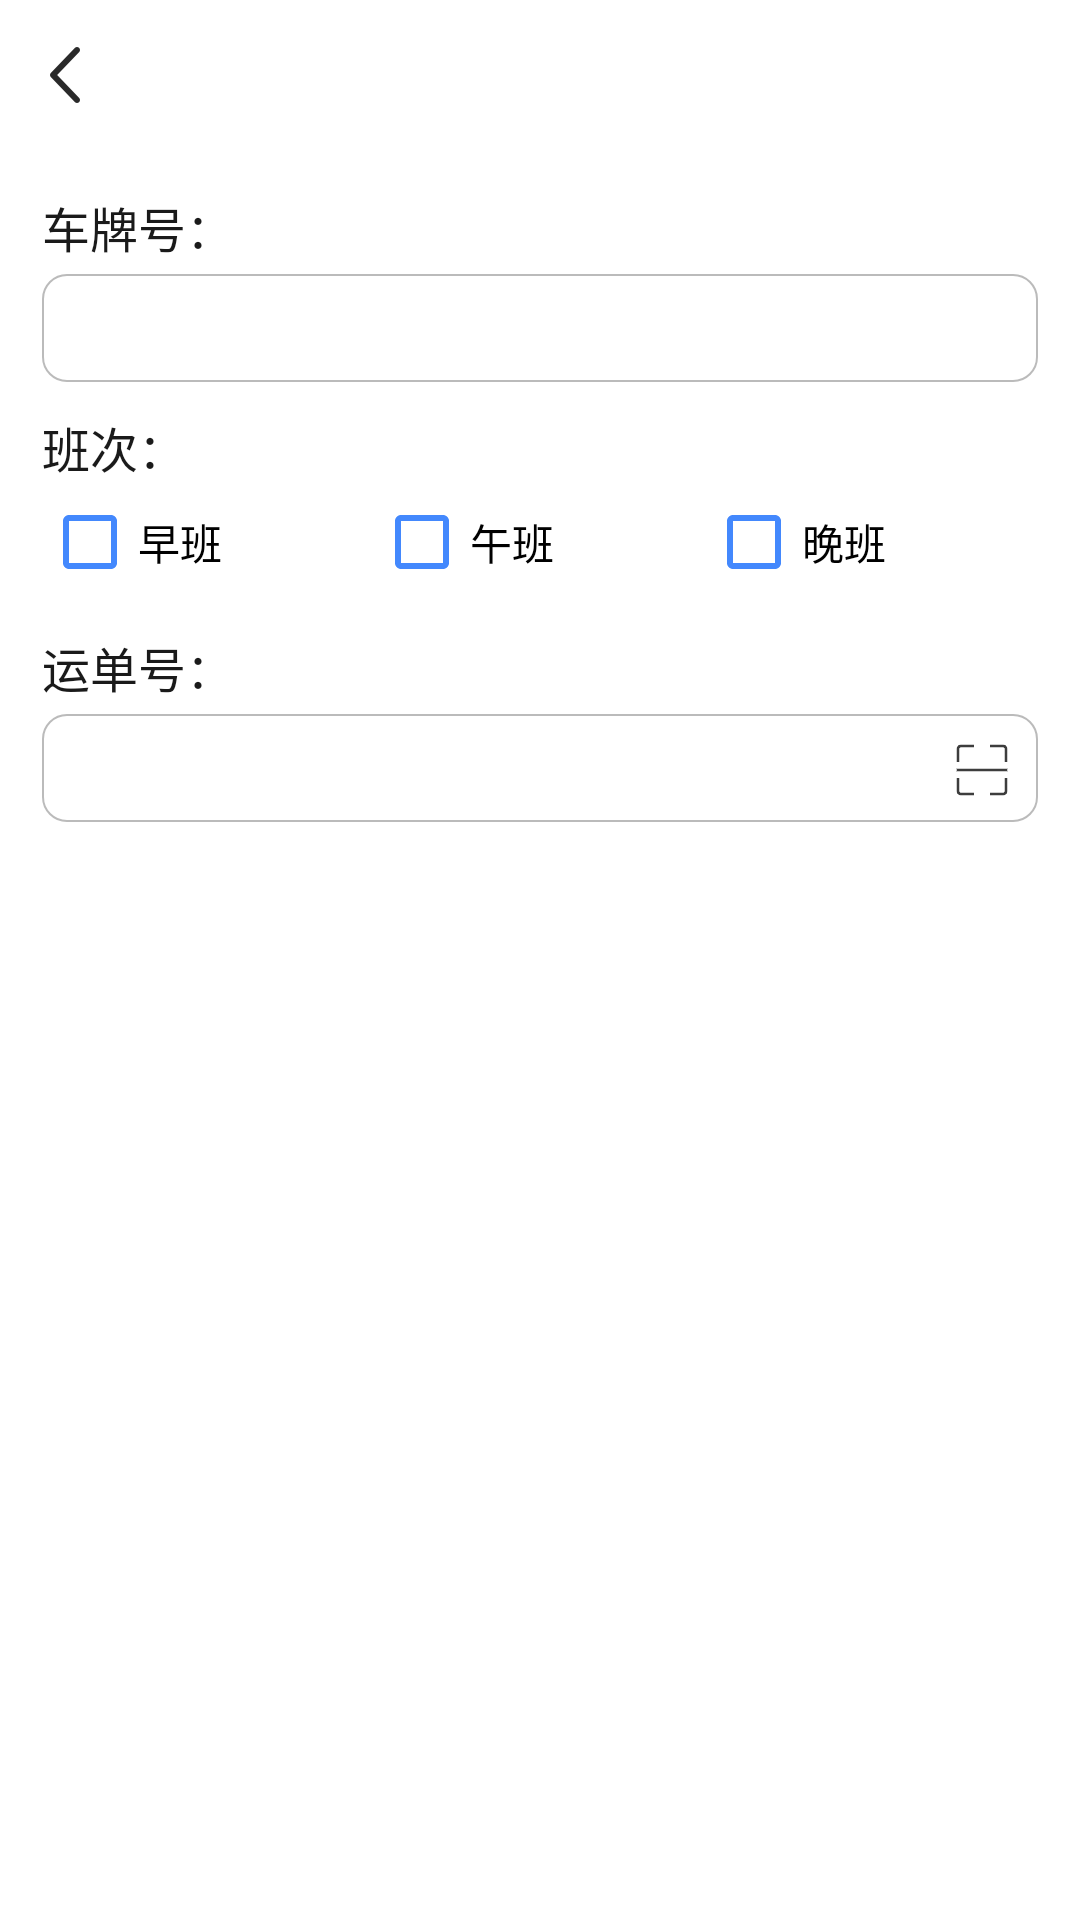

Screen size 1080×1920. Icon name, then its center in pixels as point (x, y):
back: point (65, 75)
scan: point (982, 770)
